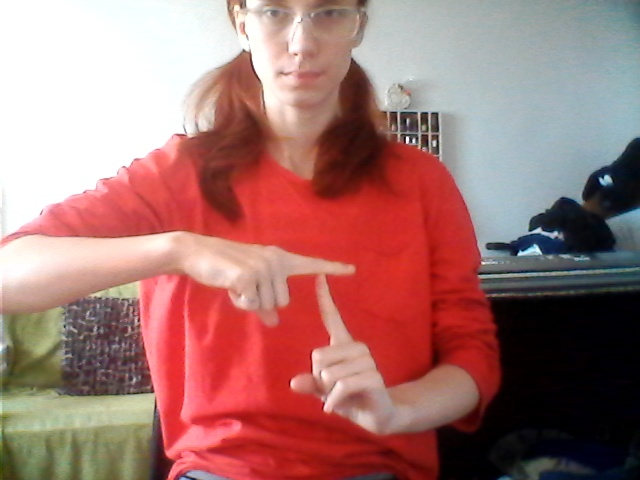t: (221, 235, 412, 445)
